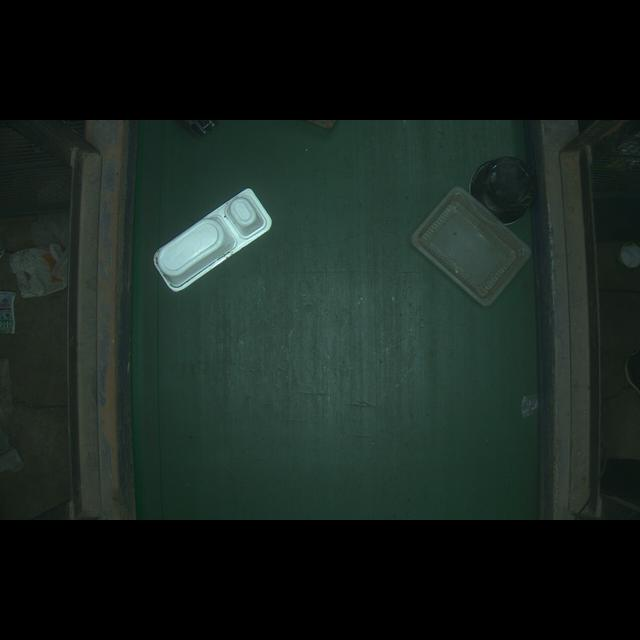mix rigid: (134, 167, 287, 299), (404, 174, 537, 301), (468, 153, 544, 225)
